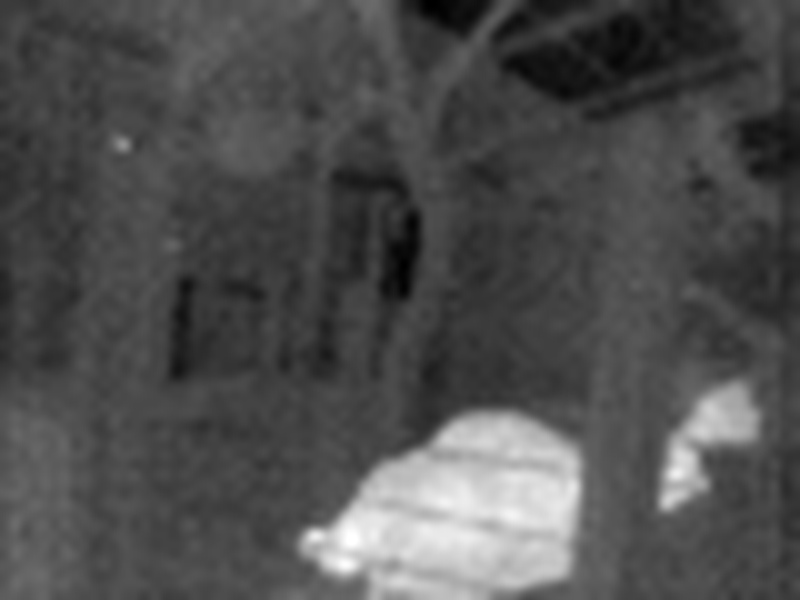elephant: (328, 378, 800, 600)
